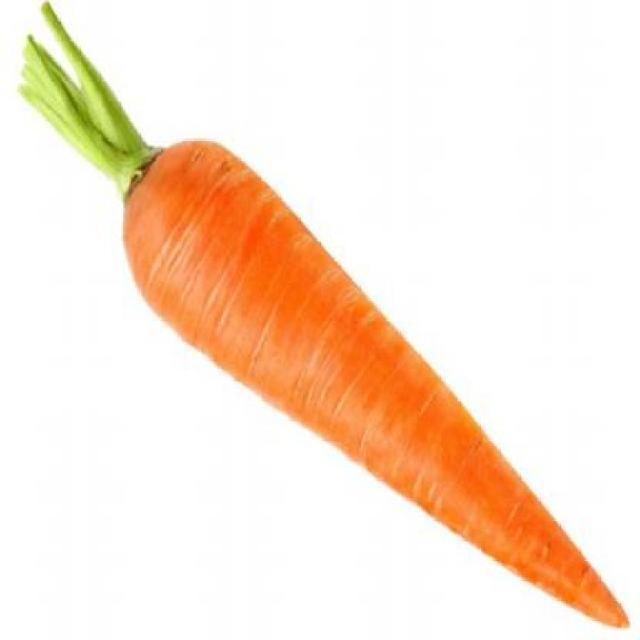carrot: (21, 4, 626, 626)
